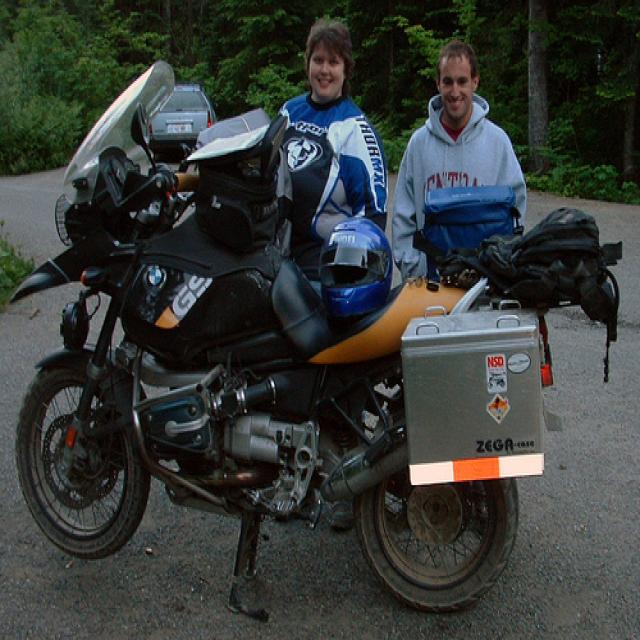motor: (8, 58, 554, 611)
